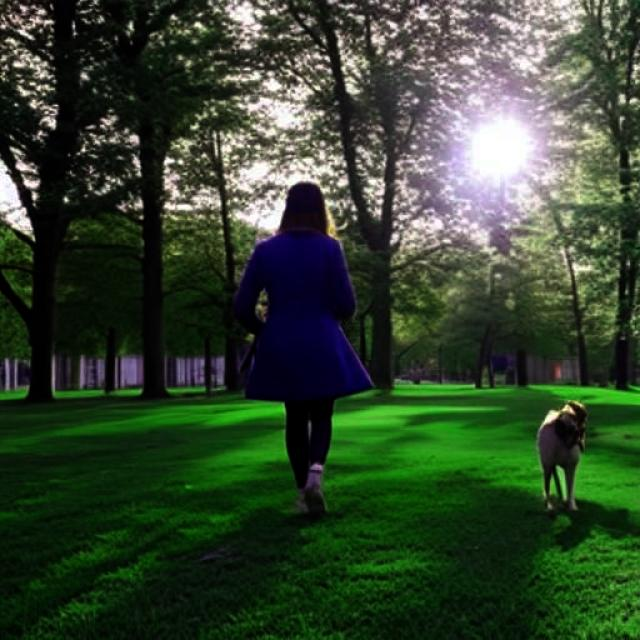Unleashed_Dog: (281, 333, 588, 514)
